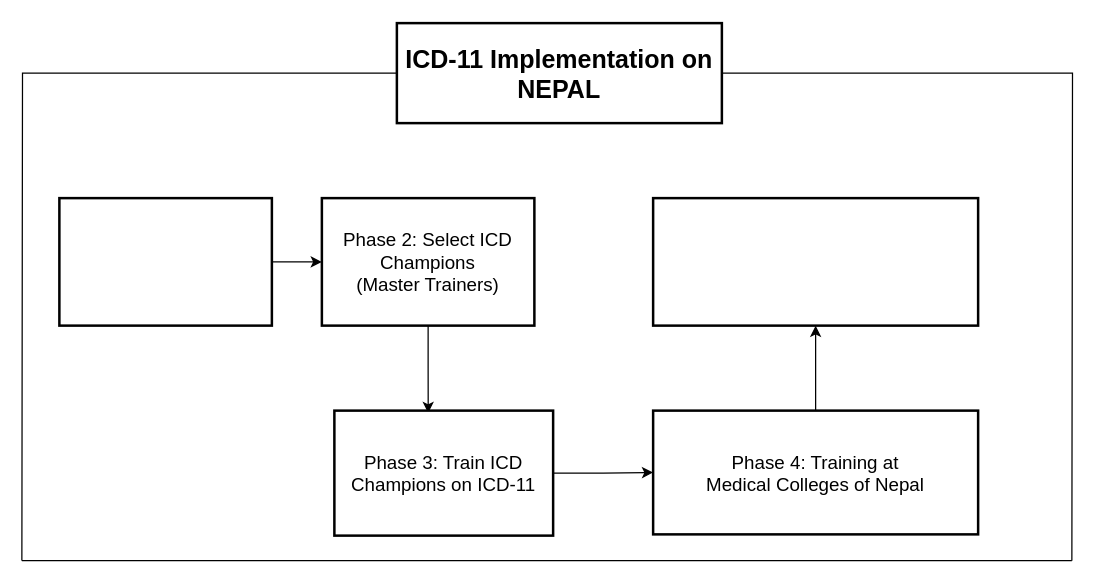
Some shapes in this 1096 by 584 pixel diagram are drawn without their labels. The shapes that lost their labels are listed below. From the top down, each one's box as (x1, y1, x2, y2) in pixels, then its label:
(58, 196, 272, 326): Phase 1: Prepare Governmental Policies on ICD-11 Usage (Base Setup)
(651, 196, 979, 326): Phase 5: Training & Awareness for Hospital Doctors
